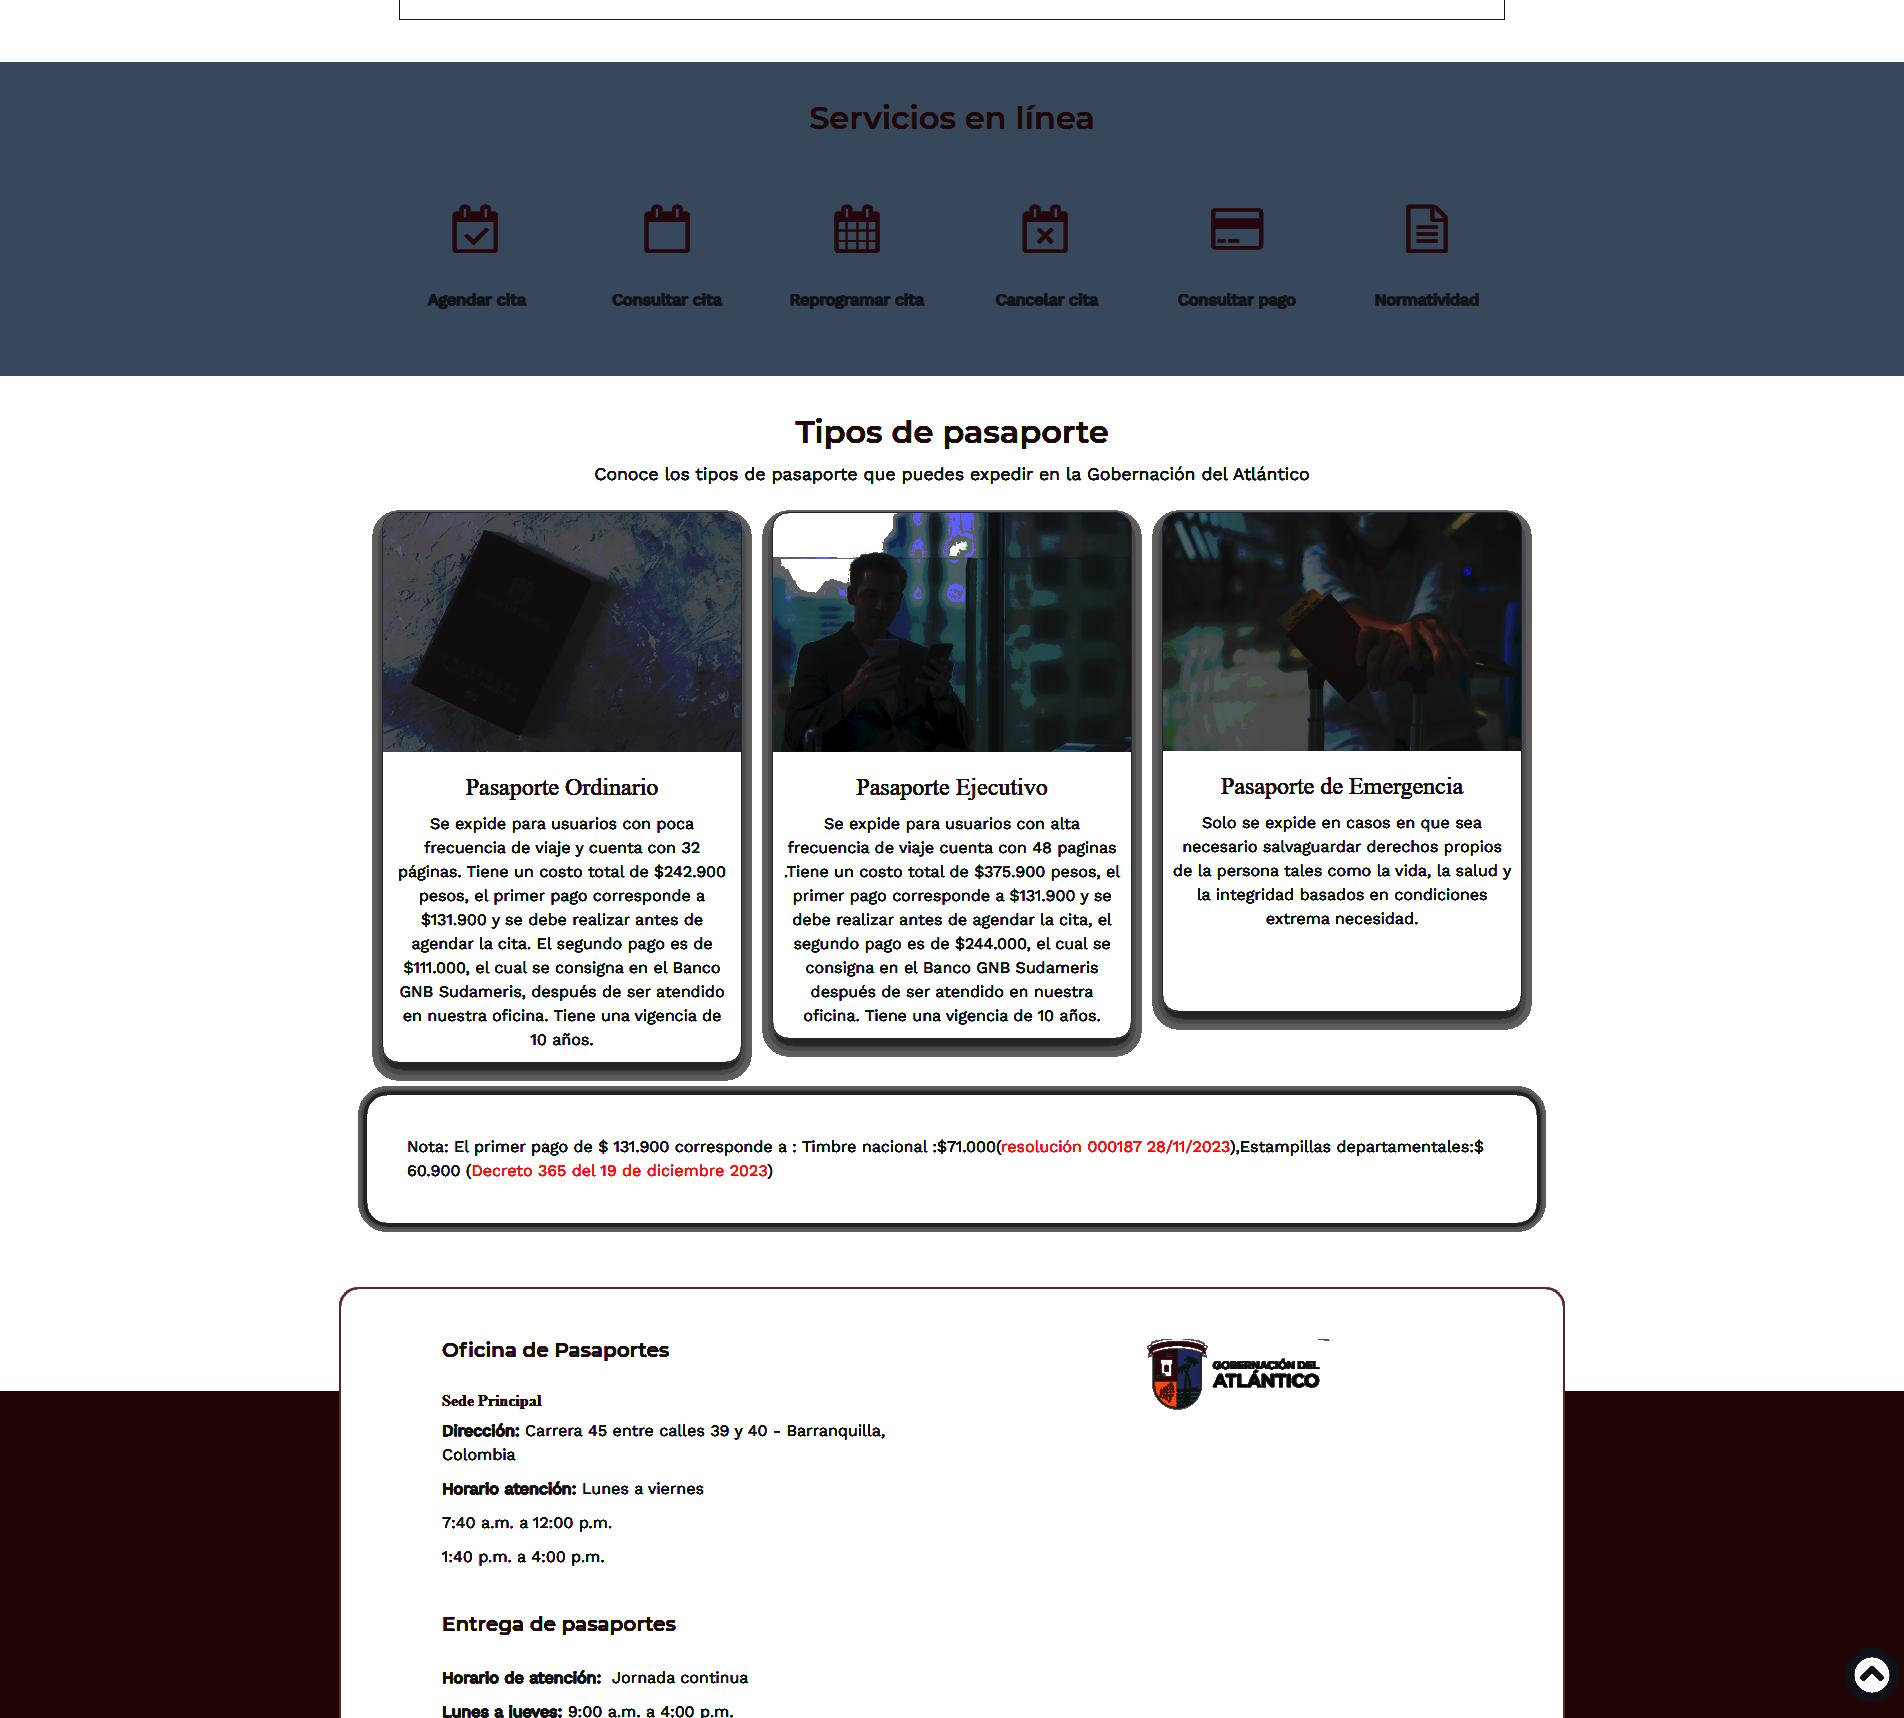btn normatividad: (1372, 280, 1486, 317)
btn volver arriba: (1842, 1645, 1902, 1704)
direccion: (438, 1417, 524, 1443)
footer: (331, 1279, 1569, 1716)
horario atencion: (437, 1665, 605, 1689), (436, 1476, 582, 1502)
